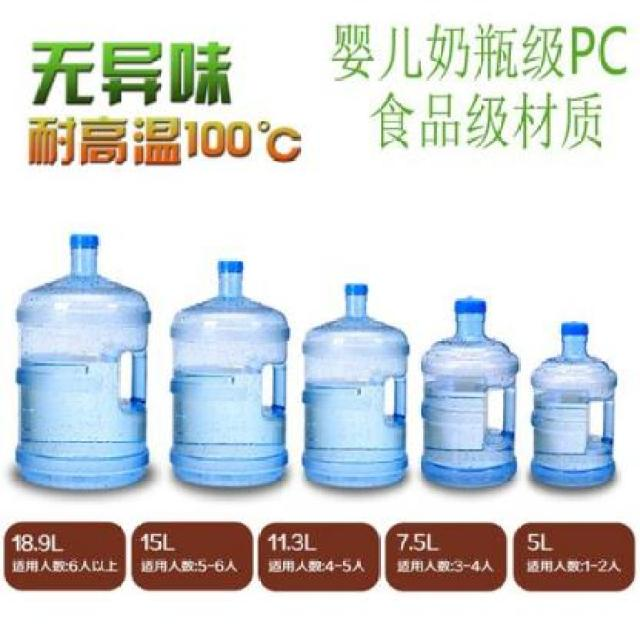coolerbottle: (9, 229, 153, 495), (166, 258, 293, 496), (299, 280, 413, 492), (418, 291, 521, 492), (525, 314, 619, 491)
